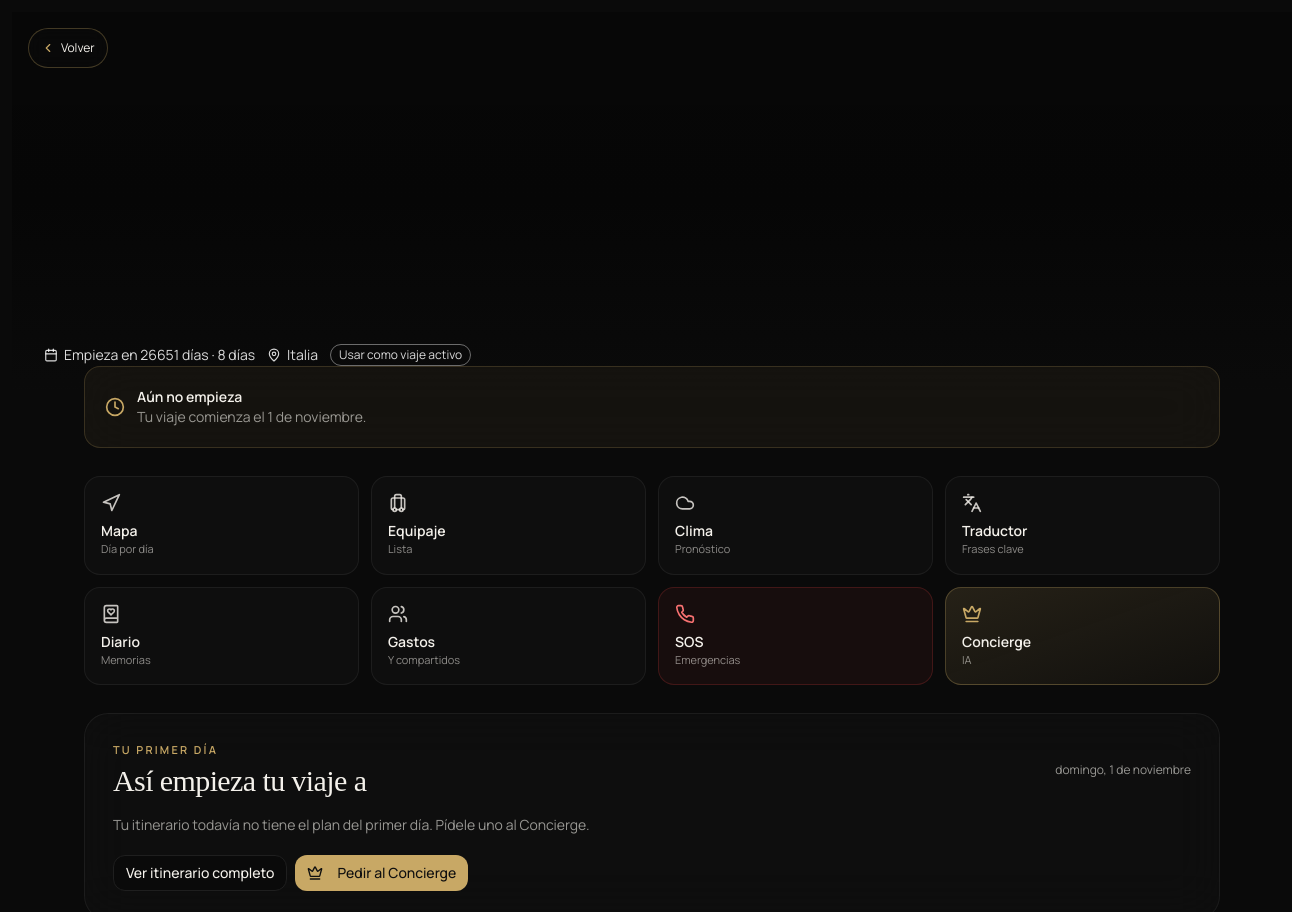
Scenario: Modo viaje: el Concierge habla de este viaje › abrir el Concierge fija este viaje como activo
This screenshot has width=1292, height=912.
Expected: the button "Usar como viaje activo" is shown, [330,344,471,366]
Click the button "Pedir al Concierge": click(382, 872) [295,854,468,890]
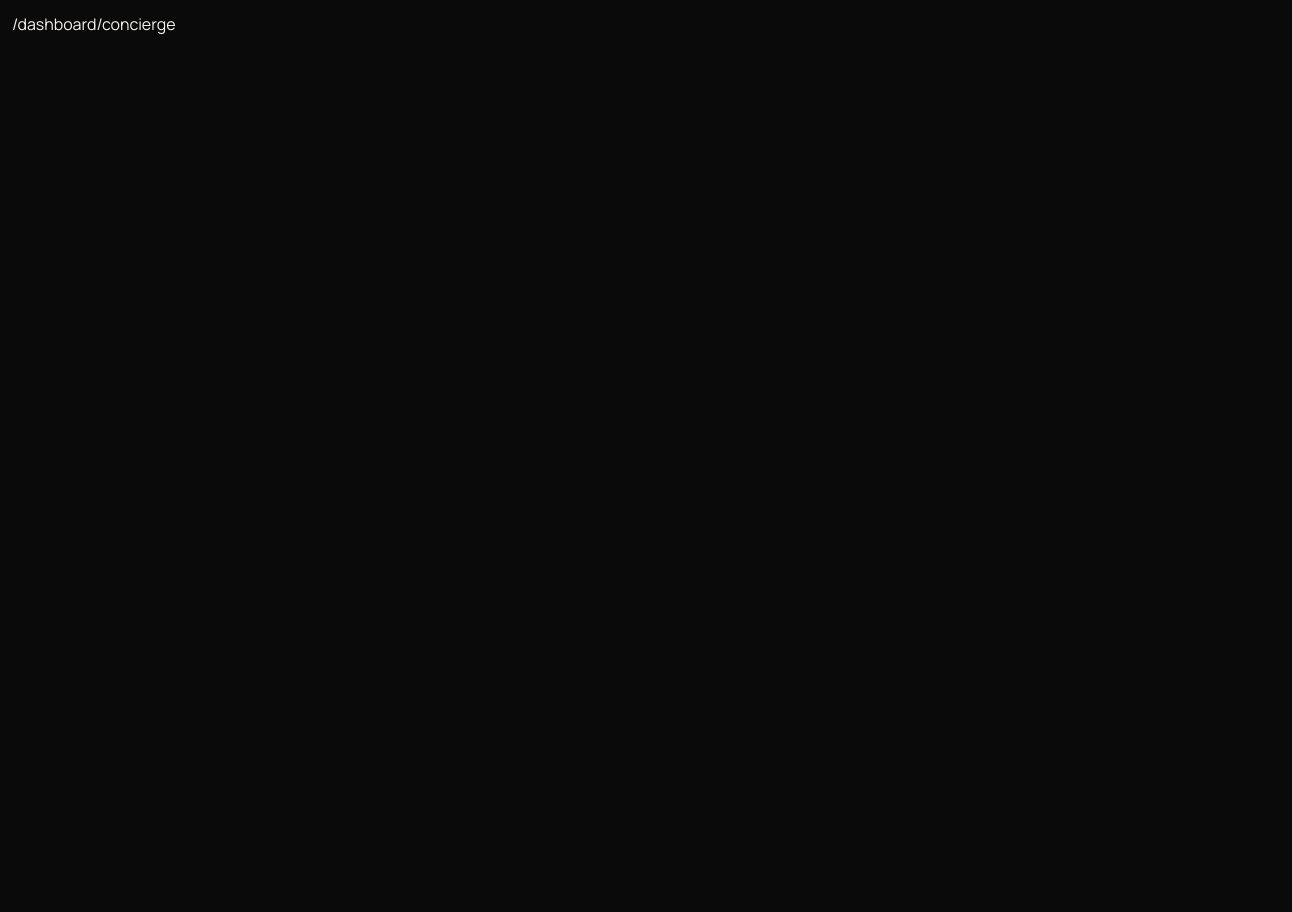
Expected: the text with test id "where" reads "/dashboard/concierge", [12,13,176,35]
